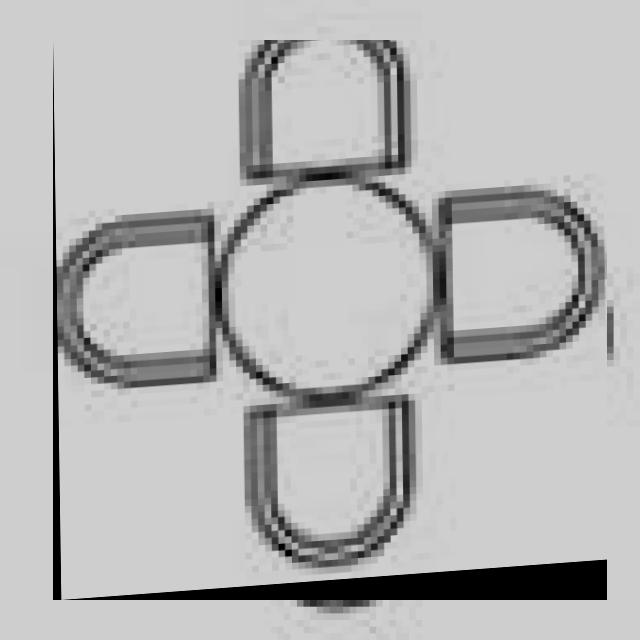table: (53, 40, 607, 600)
